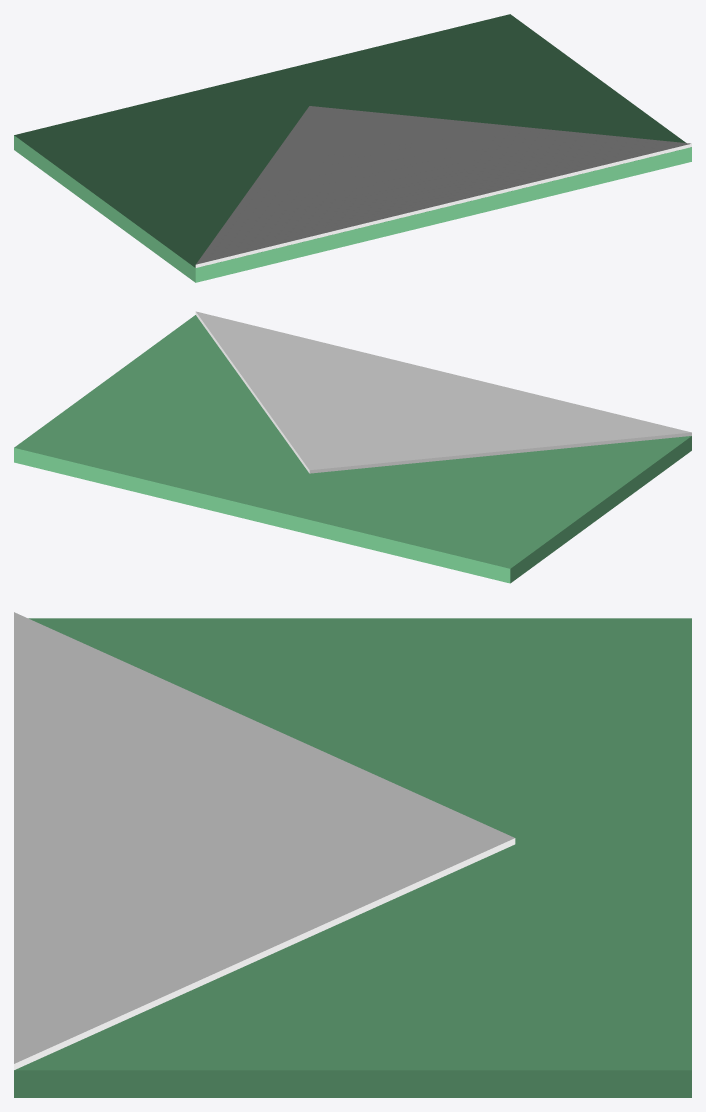
File: Envelope.fbx
The picture shows the model from 3 angles, top to bottom: view 1: azimuth 30°, elevation 25°; view 2: azimuth 150°, elevation 25°; view 3: azimuth 270°, elevation 25°; orthographic projection. The views are drawn at different scales.
Parts seen in each view (by area): view 1: Node 0; view 2: Node 0; view 3: Node 0.
Part boxes in pixels (left/top/right/bottom): Node 0: left=14, top=14, right=691, bottom=282; Node 0: left=14, top=311, right=691, bottom=583; Node 0: left=14, top=612, right=691, bottom=1097.
Size of the model in its own units: 0.2789 by 0.0154 by 0.4399.
